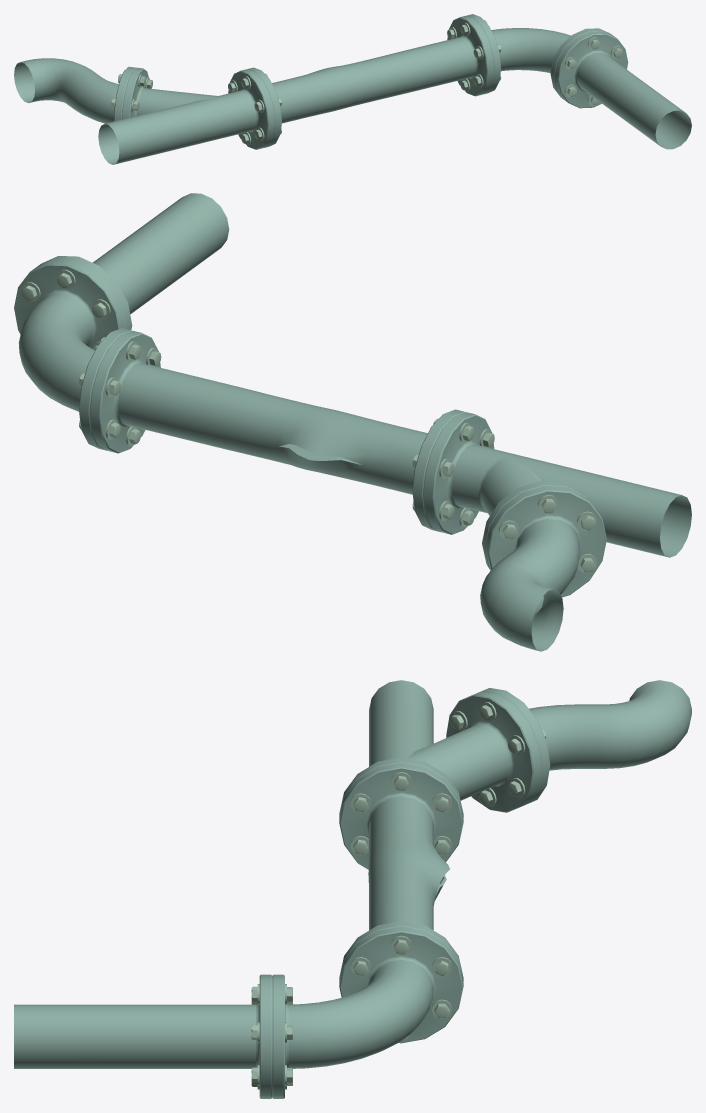
Rendered from PipeComplexLarge_A3_12.fbx.
The picture shows the model from 3 angles, top to bottom: view 1: azimuth 30°, elevation 25°; view 2: azimuth 150°, elevation 25°; view 3: azimuth 270°, elevation 25°; orthographic projection. The views are drawn at different scales.
Parts seen in each view (by area): view 1: PipeComplexLarge_A3_12.001; view 2: PipeComplexLarge_A3_12.001; view 3: PipeComplexLarge_A3_12.001.
Boxes of the visible parts, x1=… form: PipeComplexLarge_A3_12.001: x1=14, y1=14, x2=691, y2=164; PipeComplexLarge_A3_12.001: x1=14, y1=193, x2=691, y2=651; PipeComplexLarge_A3_12.001: x1=14, y1=680, x2=691, y2=1098.
Size of the model in its own units: 2.59 by 0.3846 by 2.1.
